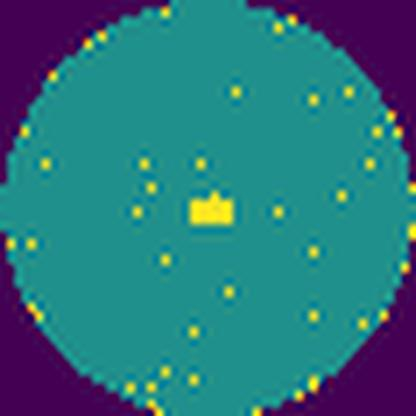Center: (188, 194, 236, 227)
